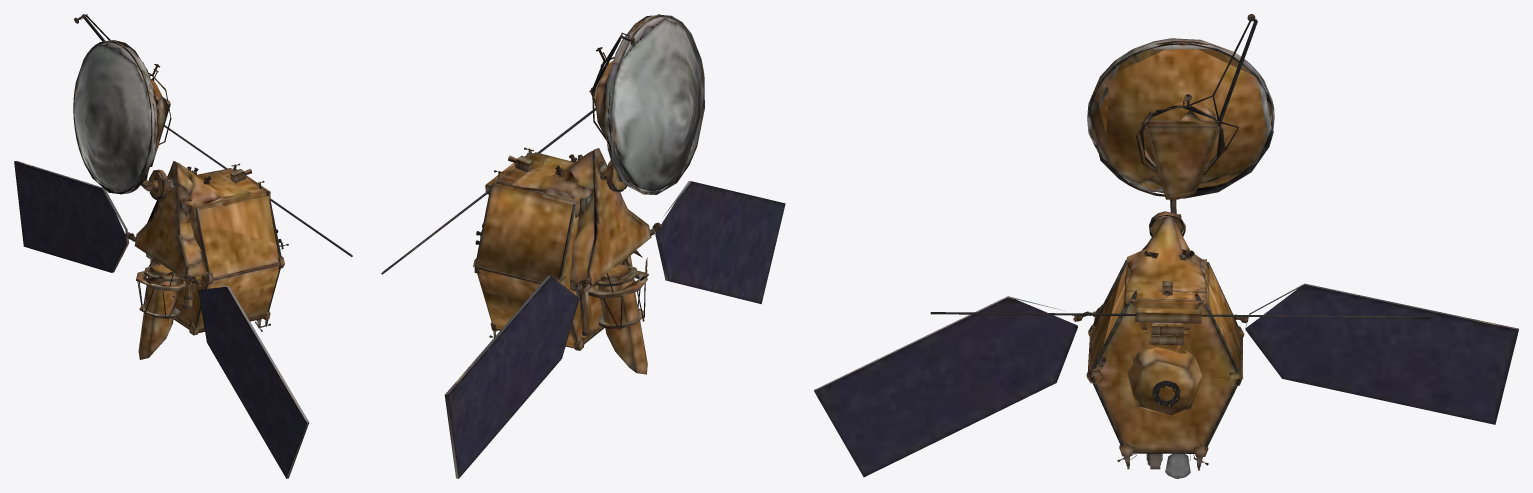
File: mro.glb
3 views of the same model, side by side, from view 1: azimuth 30°, elevation 25°; view 2: azimuth 150°, elevation 25°; view 3: azimuth 270°, elevation 25° (orthographic). The views are drawn at different scales.
Visible parts, largest first — view 1: mro_proxy7, mro_proxy5, mro_proxy3, mro_proxy6, mro_proxy2; view 2: mro_proxy7, mro_proxy5, mro_proxy3, mro_proxy6, mro_proxy2; view 3: mro_proxy7, mro_proxy6, mro_proxy5.
Boxes of the visible parts, x1=… form: mro_proxy7: x1=14, y1=14, x2=352, y2=478; mro_proxy5: x1=134, y1=161, x2=213, y2=335; mro_proxy3: x1=129, y1=173, x2=193, y2=359; mro_proxy6: x1=230, y1=163, x2=284, y2=328; mro_proxy2: x1=137, y1=259, x2=181, y2=320; mro_proxy7: x1=381, y1=14, x2=785, y2=478; mro_proxy5: x1=477, y1=148, x2=660, y2=350; mro_proxy3: x1=581, y1=160, x2=658, y2=374; mro_proxy6: x1=473, y1=147, x2=534, y2=337; mro_proxy2: x1=601, y1=250, x2=648, y2=330; mro_proxy7: x1=814, y1=14, x2=1518, y2=477; mro_proxy6: x1=1086, y1=281, x2=1243, y2=470; mro_proxy5: x1=1082, y1=217, x2=1244, y2=478.
Bounding box in the file's own units: 32.76 × 61 × 89.74.
Materials: 2 (2 with a texture image).
